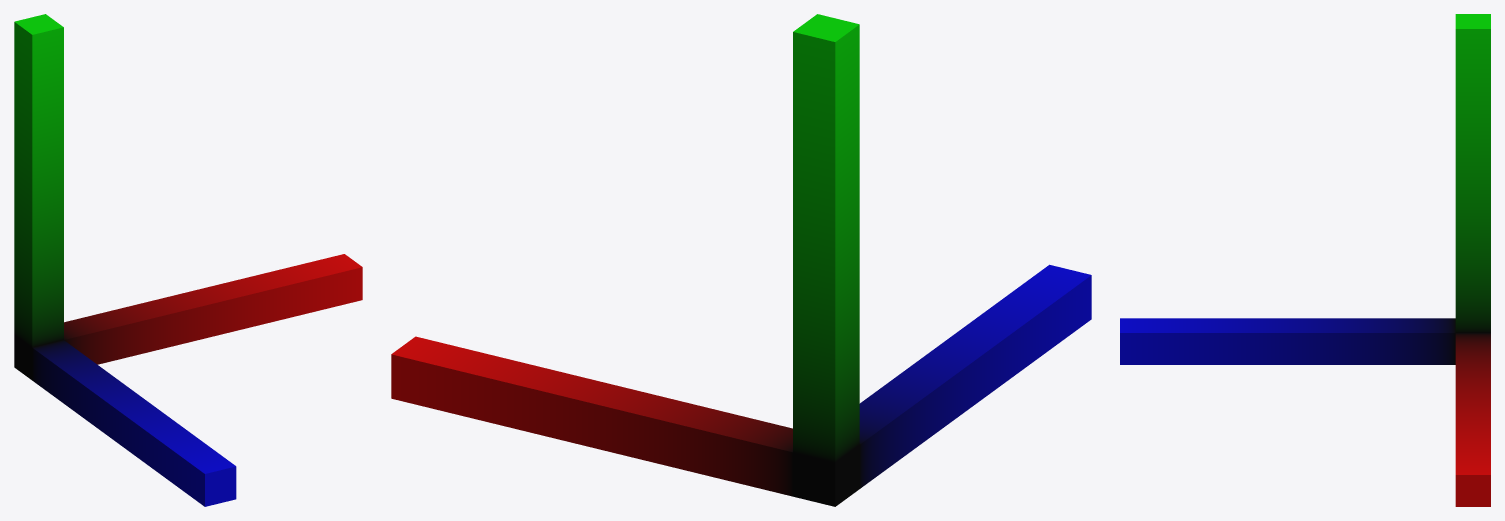
File: gimbal.obj
3 renders of one model, left to right at view 1: azimuth 30°, elevation 25°; view 2: azimuth 150°, elevation 25°; view 3: azimuth 270°, elevation 25°, orthographic. The views are drawn at different scales.
Parts seen in each view (by area): view 1: Cube; view 2: Cube; view 3: Cube.
Boxes of the visible parts, x1,y1,x2,y2 form: Cube: (14, 14, 362, 506); Cube: (391, 14, 1091, 506); Cube: (1120, 14, 1490, 506).
Size of the model in its own units: 1.05 by 1.05 by 1.05.
